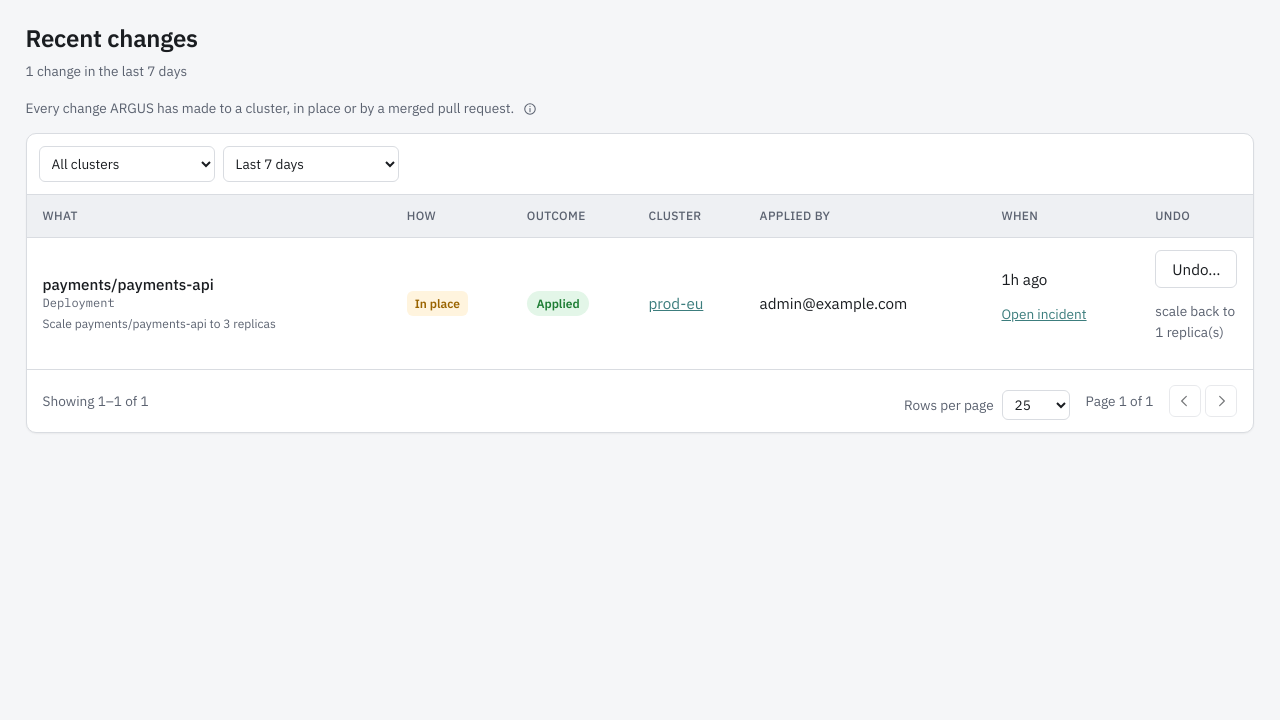
Scenario: RecentChangesPage — the undo control › offers the undo, and the confirmation names the target and the exact consequence
Click the button "Undo…". click: (1196, 268)
box: [1155,250,1237,288]
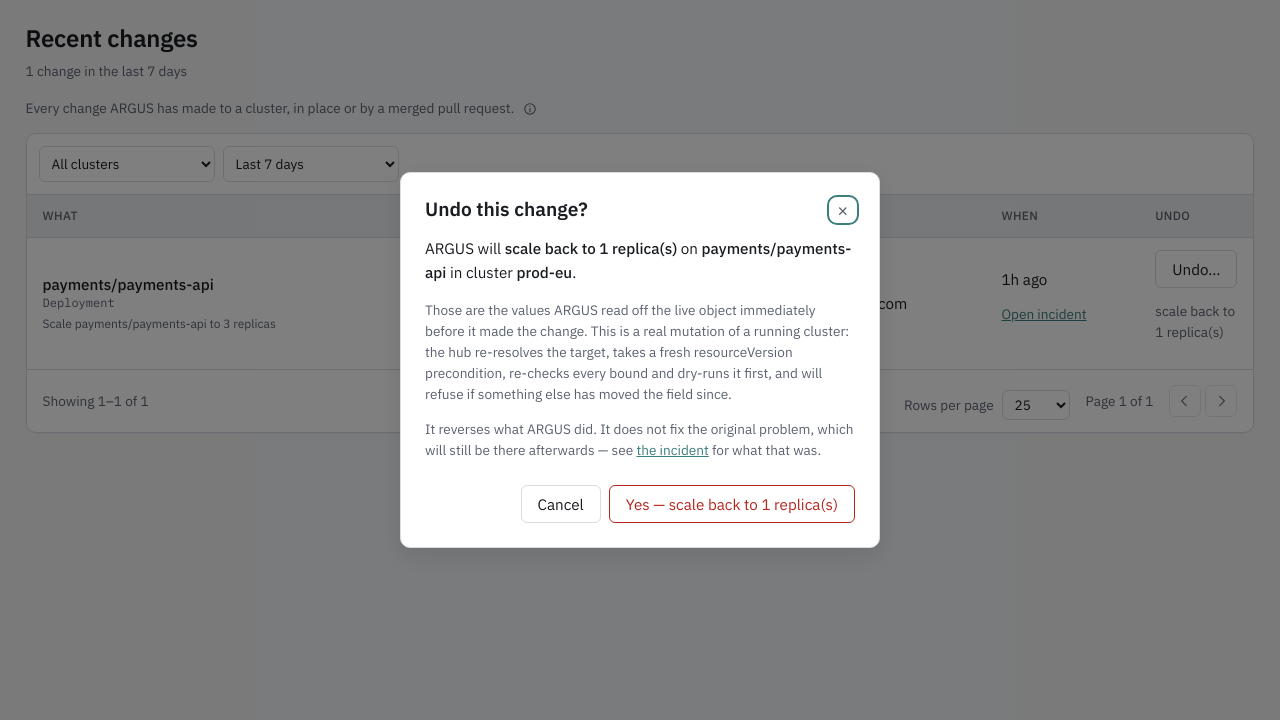
Expected: the dialog shows "scale back to 1 replica(s)", [505,238,677,258]
Expected: the dialog shows "payments/payments-api", [425,238,851,282]
Expected: the dialog shows "prod-eu", [516,262,572,282]
